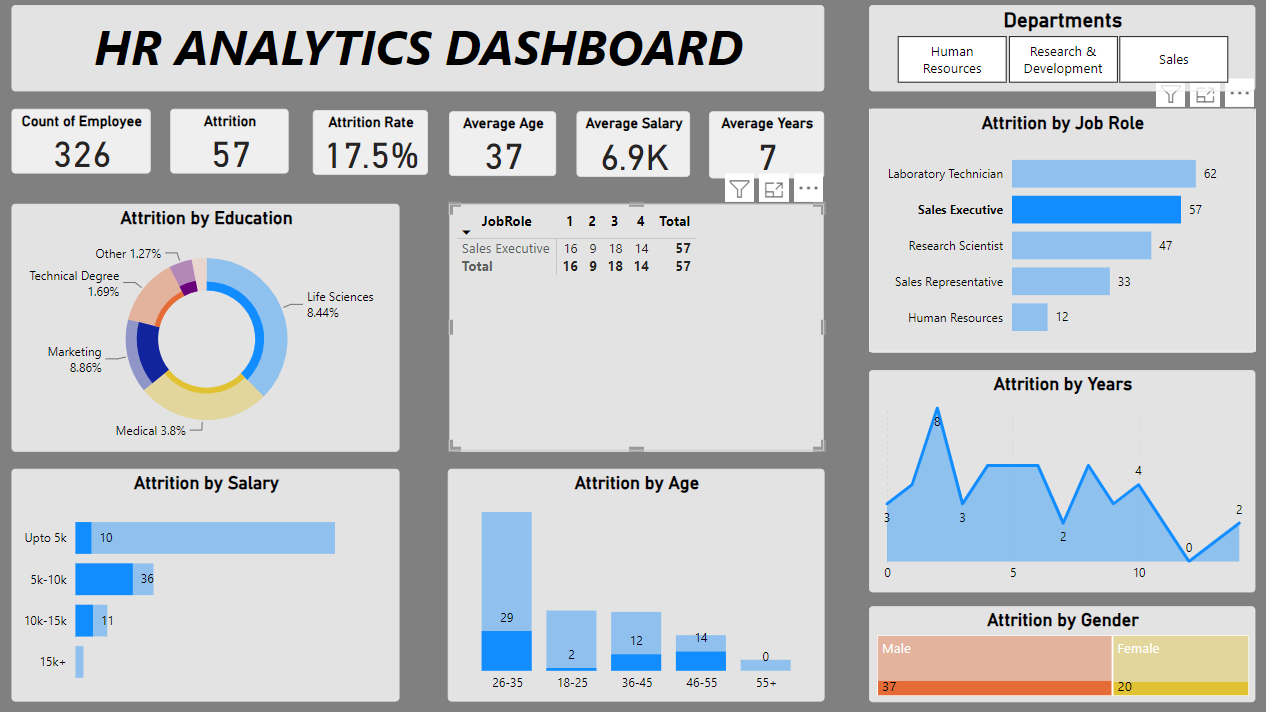

What the dashboard file says about the page in this screenshot:
{"tool":"powerbi","page":{"name":"Page 1","canvas":[1280,720],"ordinal":0},"visuals":[{"type":"card","title":"Count of Employee","fields":{"Values":["CountNonNull(HR_Analytics.EmpID)"]},"box":[17,113.8,139.4,64.9],"z":0},{"type":"card","title":"Attrition","fields":{"Values":["Sum(HR_Analytics.AttritionCount)"]},"box":[176.6,113.8,118.1,64.9],"z":1000},{"type":"card","title":"Attrition Rate","fields":{"Values":["HR_Analytics.AttritionRate"]},"box":[319.1,114.9,114.9,64.9],"z":2000},{"type":"card","title":"Average Age ","fields":{"Values":["Avg(HR_Analytics.Age)"]},"box":[455.3,116,107.4,64.9],"z":3000},{"type":"card","title":"Average Salary","fields":{"Values":["Avg(HR_Analytics.MonthlyIncome)"]},"box":[583,116,113.8,66],"z":4000},{"type":"card","title":"Average Years ","fields":{"Values":["Avg(HR_Analytics.YearsAtCompany)"]},"box":[714.9,116,114.9,67],"z":5000},{"type":"donutChart","title":"Attrition by Education","fields":{"Category":["HR_Analytics.EducationField"],"Y":["Sum(HR_Analytics.AttritionCount)"]},"box":[17,208.5,388.3,247.9],"z":6000},{"type":"columnChart","title":"Attrition by Age","fields":{"Category":["HR_Analytics.AgeGroup"],"Y":["Sum(HR_Analytics.AttritionCount)"]},"box":[453.2,473.4,376.6,233],"z":7000},{"type":"pivotTable","fields":{"Rows":["HR_Analytics.JobRole"],"Columns":["HR_Analytics.JobSatisfaction"],"Values":["Sum(HR_Analytics.AttritionCount)"]},"box":[455.3,208.5,374.5,247.9],"z":8000},{"type":"barChart","title":"Attrition by Salary","fields":{"Category":["HR_Analytics.SalarySlab"],"Y":["Sum(HR_Analytics.AttritionCount)"]},"box":[17,473.4,388.3,233],"z":9000},{"type":"barChart","title":"Attrition by Job Role","fields":{"Category":["HR_Analytics.JobRole"],"Y":["Sum(HR_Analytics.AttritionCount)"]},"box":[875.5,113.8,386.2,243.6],"z":10000},{"type":"areaChart","title":"Attrition by Years","fields":{"Category":["HR_Analytics.YearsAtCompany"],"Y":["Sum(HR_Analytics.AttritionCount)"]},"box":[875,375,386.2,222.5],"z":11000},{"type":"treemap","title":"Attrition by Gender","fields":{"Group":["HR_Analytics.Gender"],"Values":["Sum(HR_Analytics.AttritionCount)"]},"box":[875.5,610.6,386.2,95.7],"z":12000},{"type":"slicer","title":"Departments","fields":{"Values":["HR_Analytics.Department"]},"box":[875.5,9.6,386.2,86.2],"z":13000},{"type":"textbox","box":[17,9.6,812.8,86.2],"z":14000}]}

Visuals, with their boxes in screenshot pixels (x1, y1, x2, y2), scaled from the page's 1280x720 canvas onto the 1266x712 screenshot:
"Count of Employee" card: locate(17, 113, 155, 177)
"Attrition" card: locate(175, 113, 291, 177)
"Attrition Rate" card: locate(316, 114, 429, 178)
"Average Age " card: locate(450, 115, 557, 179)
"Average Salary" card: locate(577, 115, 689, 180)
"Average Years " card: locate(707, 115, 821, 181)
"Attrition by Education" donutChart: locate(17, 206, 401, 451)
"Attrition by Age" columnChart: locate(448, 468, 821, 699)
pivotTable - HR_Analytics.JobRole x HR_Analytics.JobSatisfaction: locate(450, 206, 821, 451)
"Attrition by Salary" barChart: locate(17, 468, 401, 699)
"Attrition by Job Role" barChart: locate(866, 113, 1248, 353)
"Attrition by Years" areaChart: locate(865, 371, 1247, 591)
"Attrition by Gender" treemap: locate(866, 604, 1248, 698)
"Departments" slicer: locate(866, 9, 1248, 95)
textbox: locate(17, 9, 821, 95)
